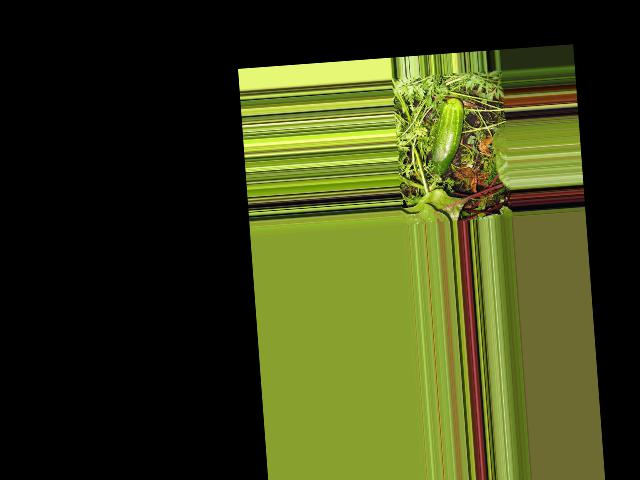cucumber: (425, 98, 468, 177)
